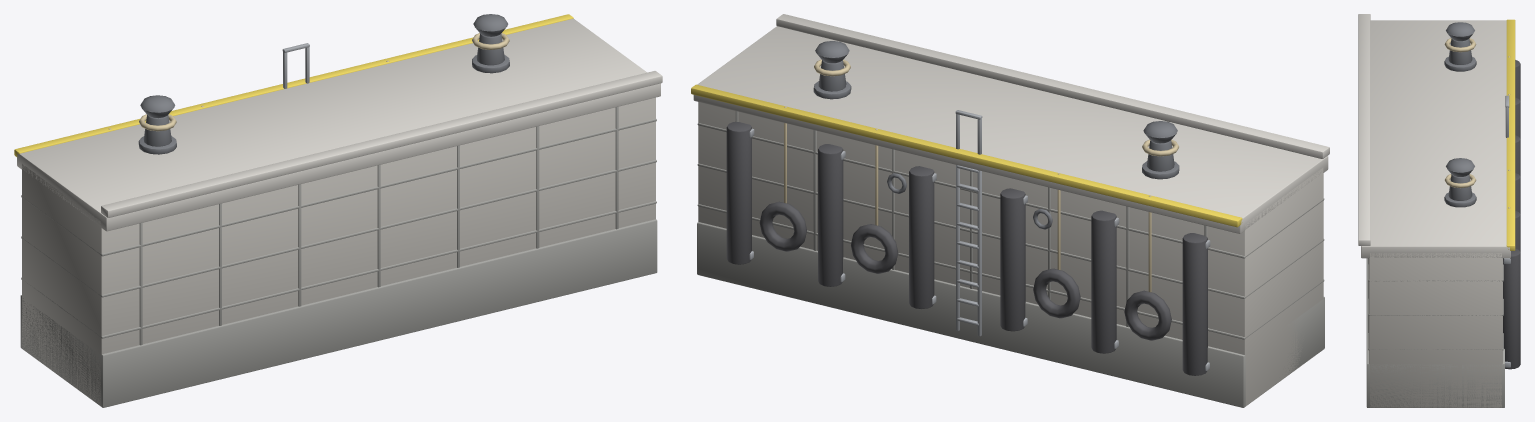
Rendered from th15_kaimauer_modul.glb.
The picture shows the model from 3 angles, left to right: view 1: azimuth 30°, elevation 25°; view 2: azimuth 150°, elevation 25°; view 3: azimuth 270°, elevation 25°; orthographic projection. The views are drawn at different scales.
Visible parts, largest first — view 1: Cube, Cube.012, Cube.001, Cube.014, Cube.013, Cube.004, Cube.003, Cube.002, Cone.002, Cone; view 2: Cube, Cube.012, Cube.001, Cube.014, Cube.013, Cylinder.001, Cylinder, Cylinder.005, Cylinder.002, Cylinder.003, Cylinder.004, Torus.001 (+10 smaller); view 3: Cube.012, Cube, Cube.001, Cube.014, Cube.013, Cylinder.005, Cone, Cone.002, Sphere, Sphere.001, Cylinder.006, Cylinder.007 (+7 smaller).
Boxes of the visible parts, box(x1,y1,x2,y2) form: Cube: box(22, 97, 655, 405); Cube.012: box(17, 18, 660, 231); Cube.001: box(20, 219, 657, 407); Cube.014: box(101, 71, 662, 217); Cube.013: box(14, 14, 573, 156); Cube.004: box(21, 119, 656, 256); Cube.003: box(21, 160, 656, 297); Cube.002: box(21, 201, 656, 338); Cone.002: box(476, 33, 504, 65); Cone: box(143, 115, 171, 146); Cube: box(698, 102, 1323, 406); Cube.012: box(693, 26, 1328, 233); Cube.001: box(697, 222, 1324, 407); Cube.014: box(776, 14, 1329, 158); Cube.013: box(691, 84, 1242, 227); Cylinder.001: box(1091, 210, 1116, 353); Cylinder: box(1182, 233, 1207, 375); Cylinder.005: box(726, 121, 751, 264); Cylinder.002: box(1000, 188, 1025, 331); Cylinder.003: box(909, 166, 934, 308); Cylinder.004: box(818, 144, 843, 286); Torus.001: box(1033, 268, 1080, 318); Cube.012: box(1361, 20, 1510, 258); Cube: box(1369, 253, 1502, 407); Cube.001: box(1366, 258, 1504, 407); Cube.014: box(1358, 14, 1370, 245); Cube.013: box(1506, 19, 1515, 250); Cylinder.005: box(1503, 248, 1520, 369); Cone: box(1448, 38, 1472, 64); Cone.002: box(1448, 174, 1472, 200); Sphere: box(1446, 22, 1474, 36); Sphere.001: box(1446, 158, 1474, 172); Cylinder.006: box(1444, 56, 1476, 71); Cylinder.007: box(1444, 192, 1476, 207).
Size of the model in its own units: 12 by 5.01 by 3.64.
